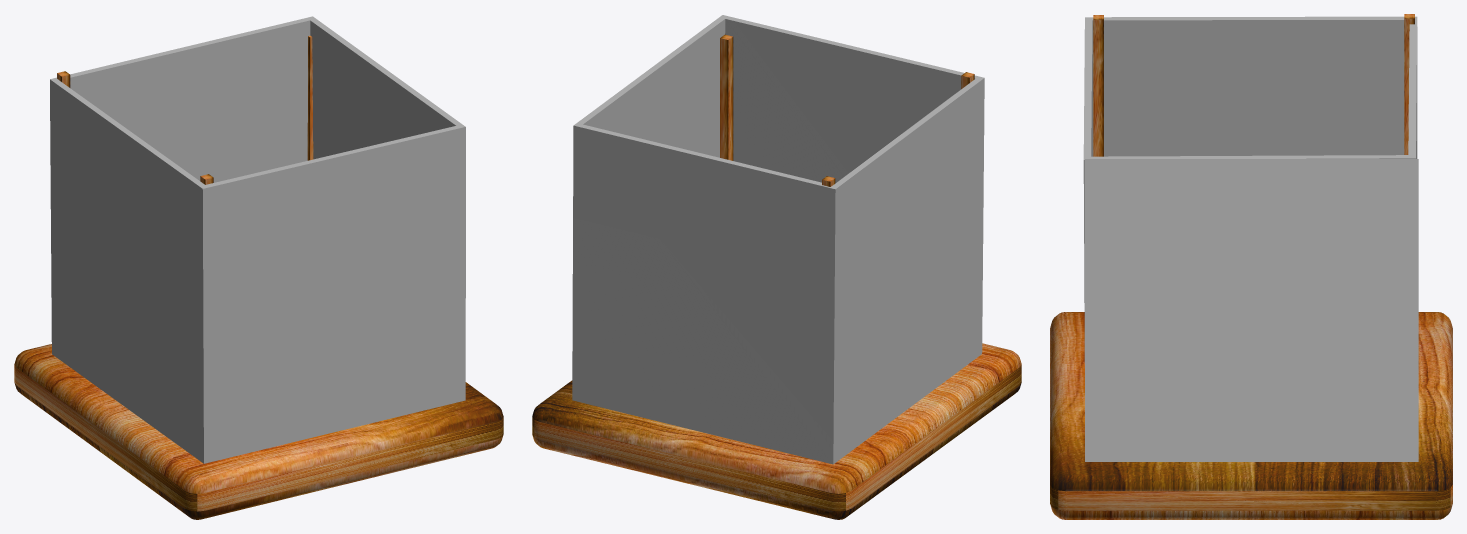
Rendered from water_lantern.glb.
3 views of the same model, side by side, from view 1: azimuth 30°, elevation 25°; view 2: azimuth 150°, elevation 25°; view 3: azimuth 270°, elevation 25° (orthographic). The views are drawn at different scales.
Visible parts, largest first — view 1: lantern, base, legs; view 2: lantern, base, legs; view 3: Plane, lantern, base, legs.
Boxes of the visible parts, <box> form: lantern: <box>50,16,465,463</box>; base: <box>14,344,503,519</box>; legs: <box>57,35,313,184</box>; lantern: <box>572,15,984,464</box>; base: <box>532,343,1021,519</box>; legs: <box>720,34,974,186</box>; Plane: <box>1085,159,1418,461</box>; lantern: <box>1083,16,1417,362</box>; base: <box>1050,312,1452,519</box>; legs: <box>1093,14,1414,156</box>.
Size of the model in its own units: 0.2262 by 0.2217 by 0.2262.
Materials: 2 (1 with a texture image).
